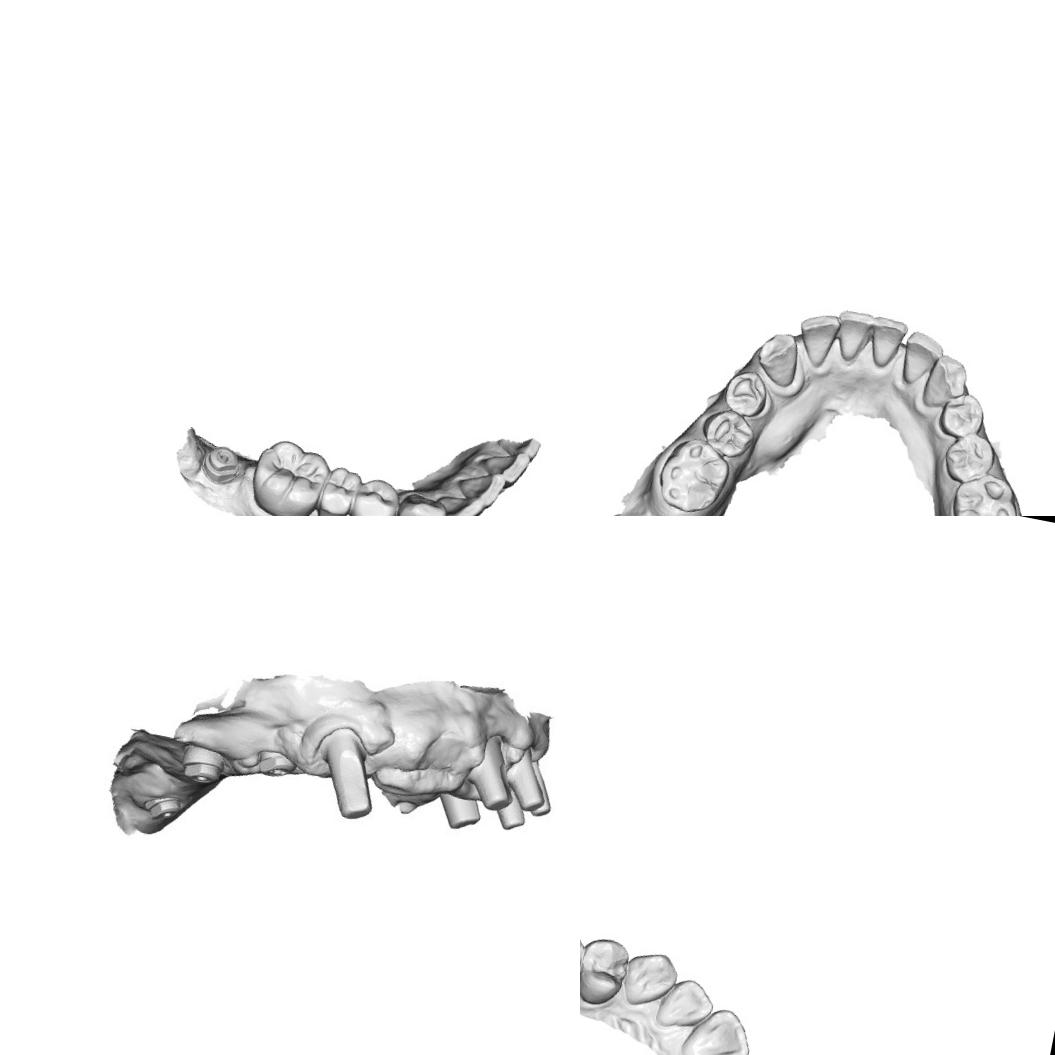abutment: (303, 720, 388, 824), (460, 730, 526, 815), (500, 744, 554, 814), (433, 785, 487, 835), (528, 764, 559, 820), (491, 800, 528, 834)
canine: (616, 944, 682, 1012), (918, 350, 972, 414), (750, 327, 804, 390), (389, 486, 450, 516)
implant: (174, 742, 229, 788), (142, 790, 189, 827)
implant_minus: (201, 438, 244, 480), (253, 746, 300, 783)
incisor: (675, 999, 757, 1055), (652, 971, 718, 1036), (895, 326, 948, 391), (792, 308, 842, 371), (862, 312, 909, 371), (828, 305, 874, 365), (450, 470, 506, 511), (490, 428, 544, 465), (472, 446, 520, 485), (438, 488, 488, 516)
molar: (243, 432, 331, 516), (650, 430, 735, 516), (943, 467, 1026, 516)
premolar: (580, 930, 634, 1011), (938, 427, 1000, 488), (696, 404, 760, 462), (934, 387, 989, 442), (718, 364, 771, 420), (312, 460, 362, 516), (341, 472, 404, 516)
